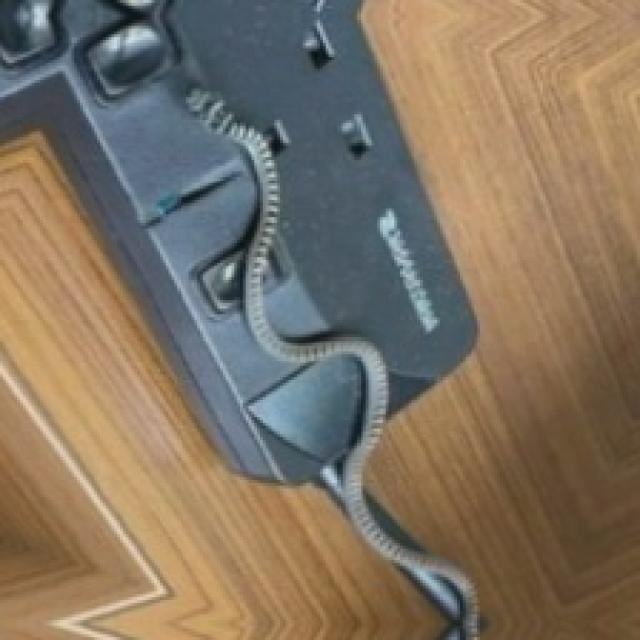paradise tree snake: (0, 0, 474, 637), (0, 349, 166, 637)
